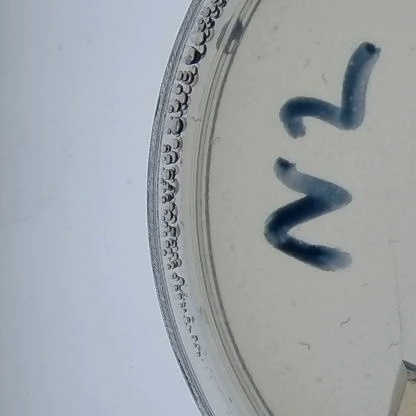worm: (385, 330, 412, 351), (331, 312, 357, 330), (294, 335, 320, 351), (315, 66, 333, 87), (382, 234, 399, 250), (358, 278, 372, 292), (298, 54, 312, 68), (212, 134, 223, 147)
